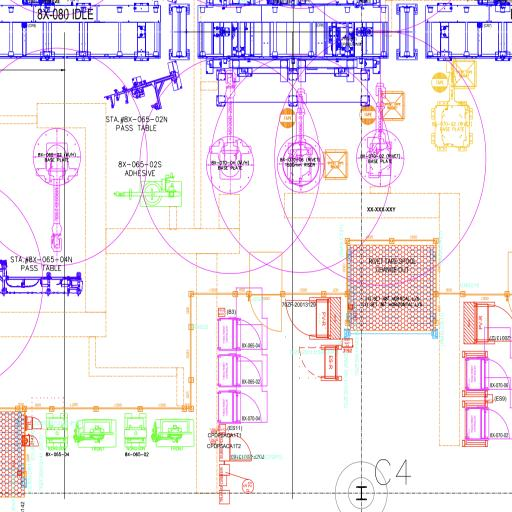robot: (203, 68, 255, 198), (32, 124, 83, 254), (353, 80, 407, 189), (274, 86, 326, 195)
